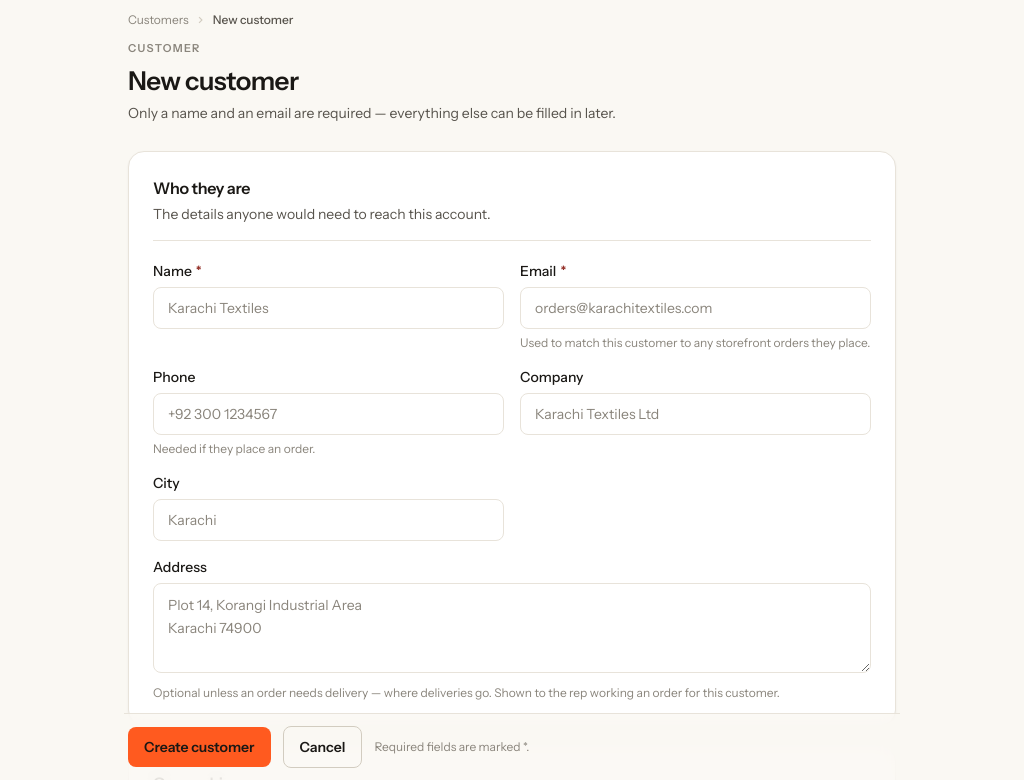
Test: CustomerForm › creating › shows the server’s validation message
Type "Karachi Traders" into the field labelled "Name*".
click(328, 308); type("Karachi Traders")  # box [153,287,504,329]
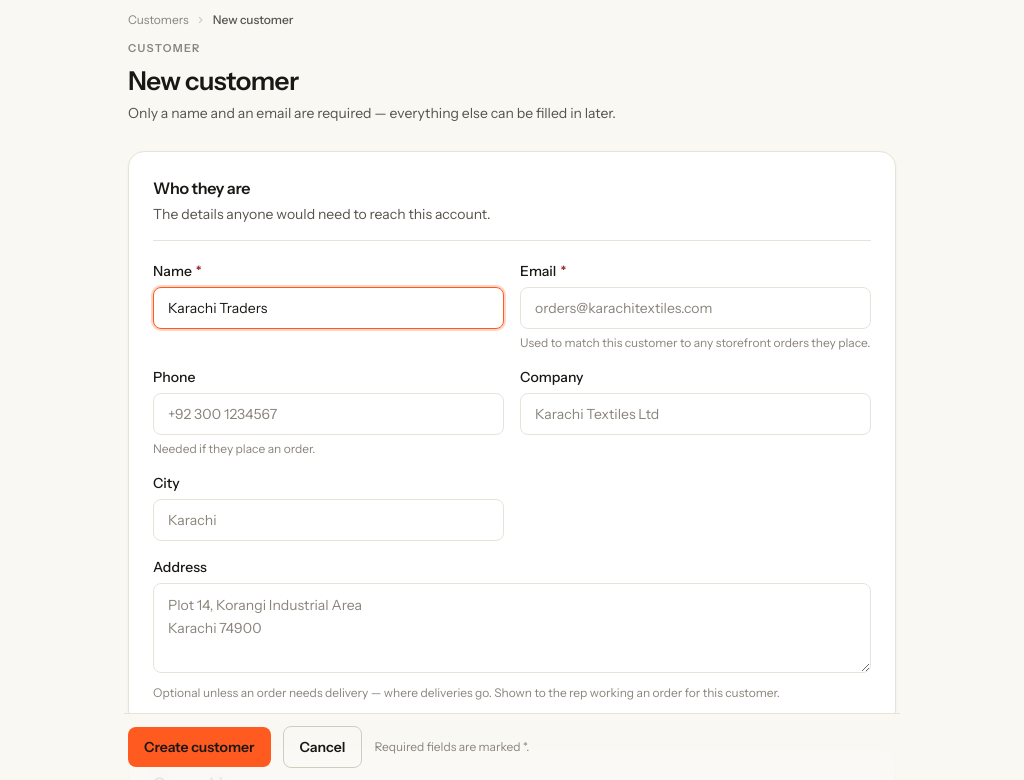
Type "not-an-email@x.co" into the field labelled "Email*".
click(696, 308); type("not-an-email@x.co")  # box [520,287,871,329]
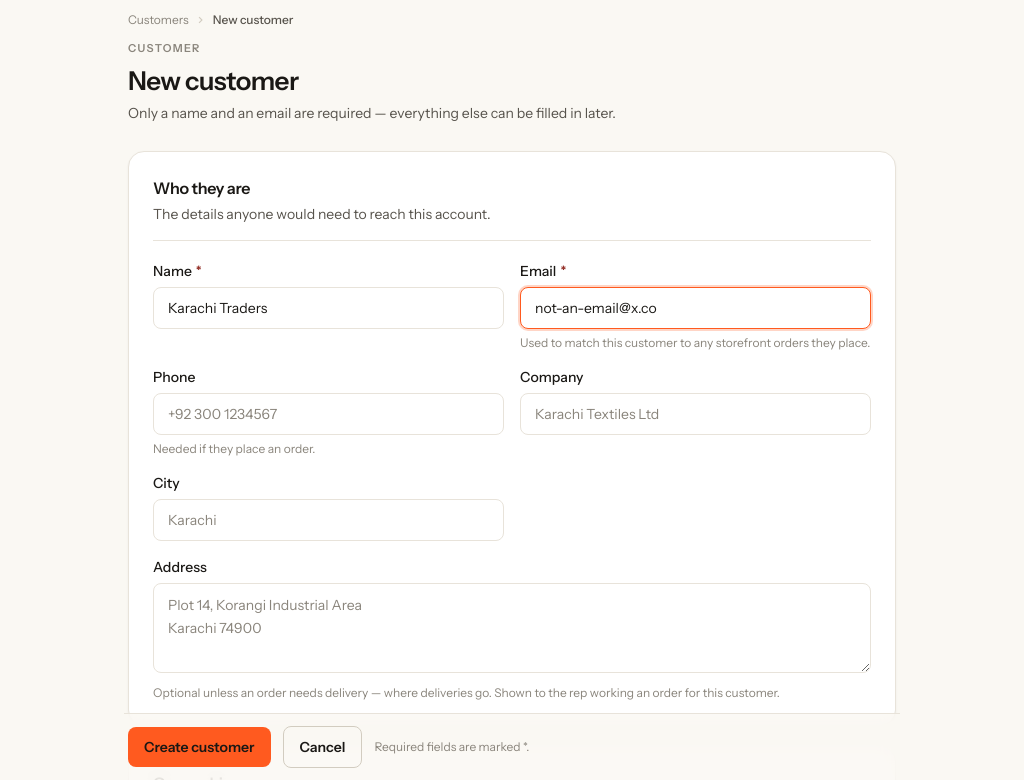
Click the button "Create customer".
click(199, 747)  # box [128,727,270,767]
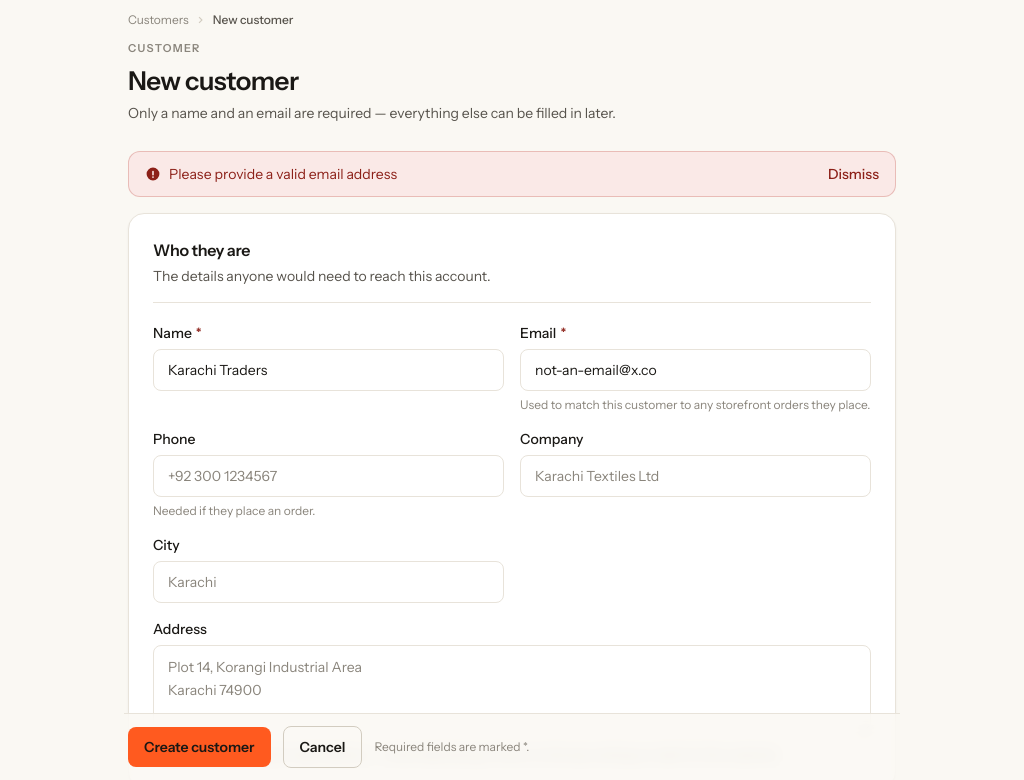
Now the text "Please provide a valid email address" is shown, box [145,164,397,184]
